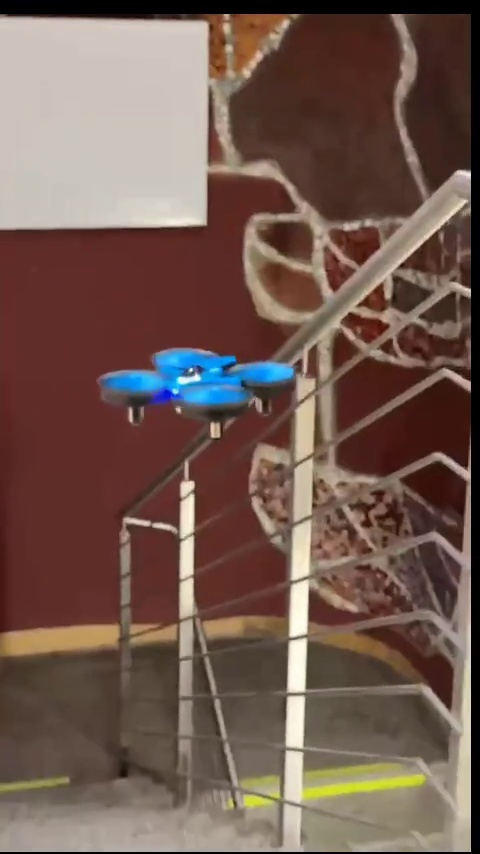drone: (97, 350, 295, 435)
